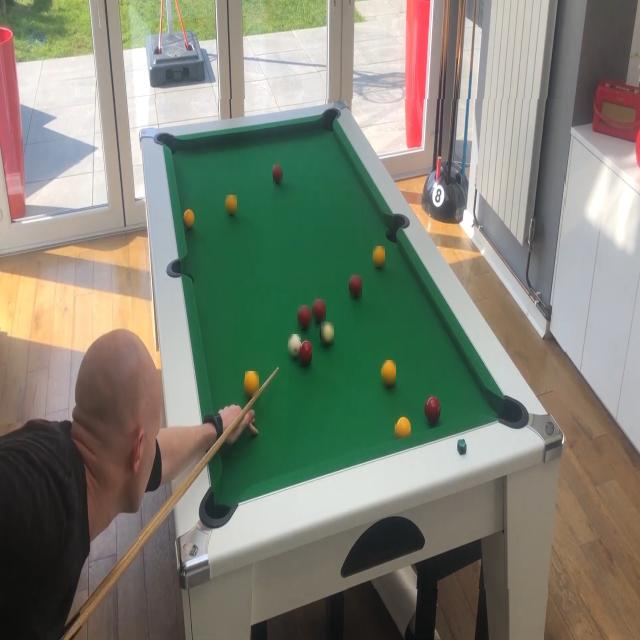Ball: (426, 396, 441, 424), (382, 360, 397, 388), (246, 372, 260, 398), (298, 305, 312, 329), (396, 416, 411, 438), (288, 334, 301, 359), (321, 322, 334, 346), (312, 299, 326, 321), (300, 340, 312, 365), (350, 275, 362, 298), (183, 209, 196, 230), (373, 246, 385, 267), (226, 195, 237, 214), (274, 165, 284, 183)
Billiard table: (140, 99, 566, 589)
